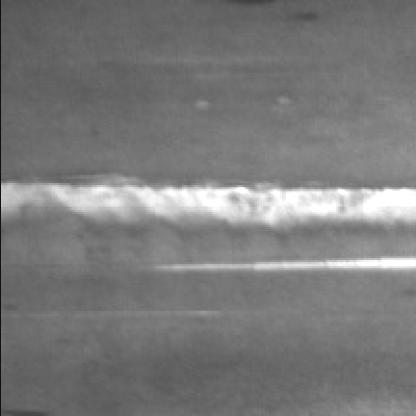scratches: (4, 179, 416, 249), (146, 256, 416, 279)
